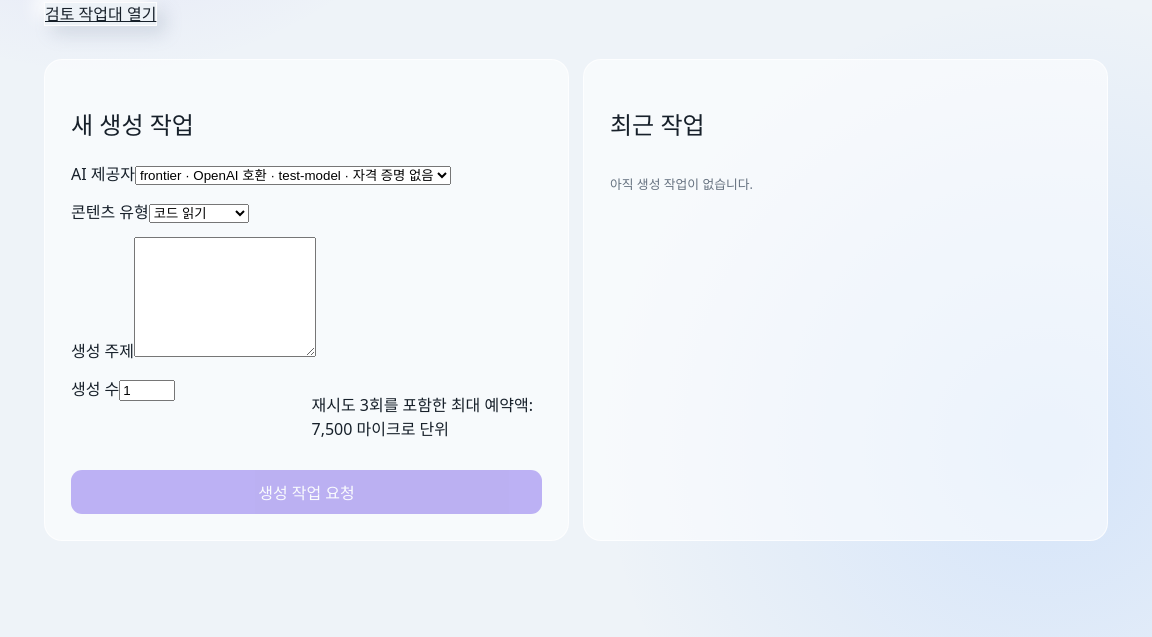
it: 자격 증명이 없는 생성 요청을 성공으로 꾸미지 않고 차단 상태로 표시한다
(page scrolled)
Expected: the text "재시도 3회를 포함한 최대 예약액: 7,500 마이크로 단위" is shown, [312,392,542,440]
Type "이진 탐색 경계 오류를 설명하는 코드 읽기 문제" into the text box labelled "생성 주제" at [225, 297], box [134,237,316,357]
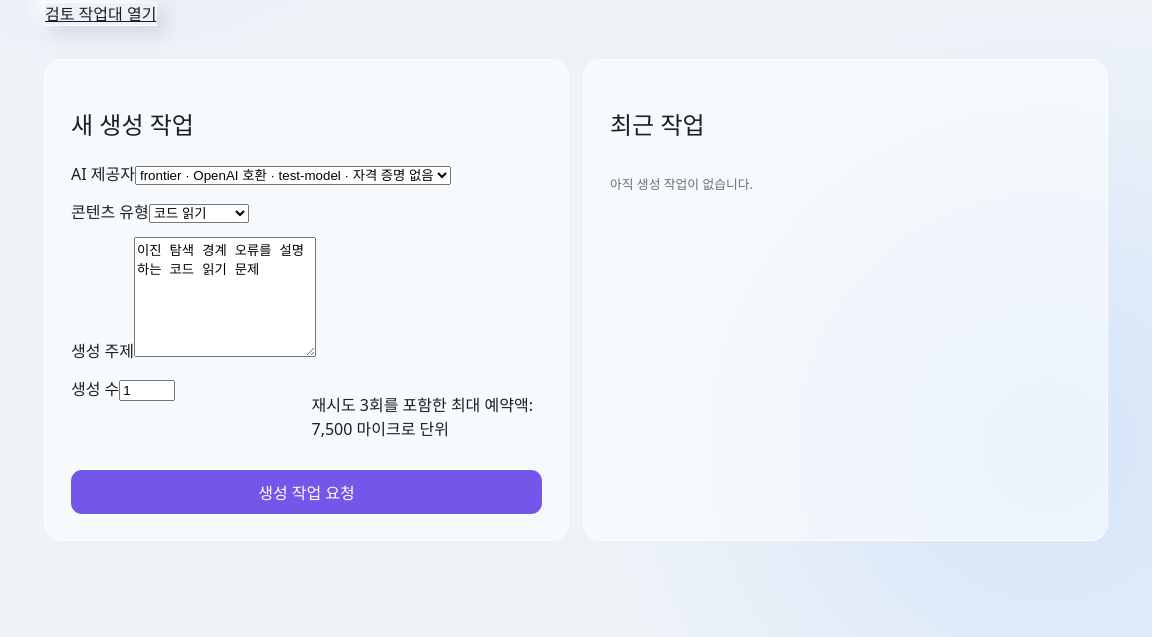
Click the button "생성 작업 요청" at [306, 492], box [71,470,542,514]
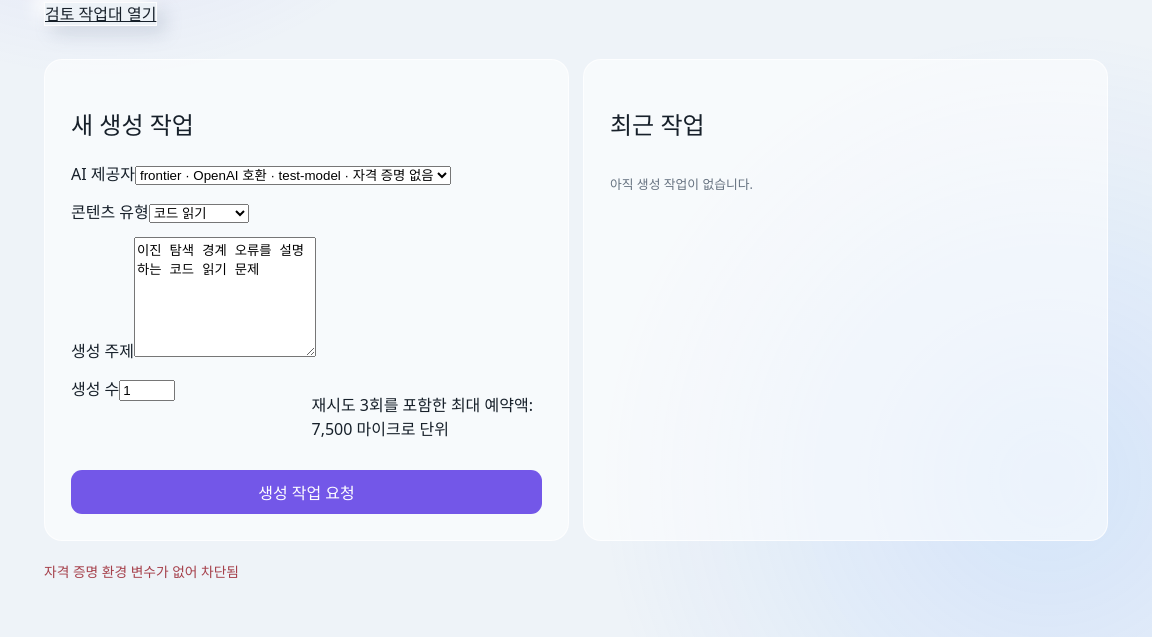
Result: the message reads "자격 증명 환경 변수가 없어 차단됨" at [44,562,239,581]
